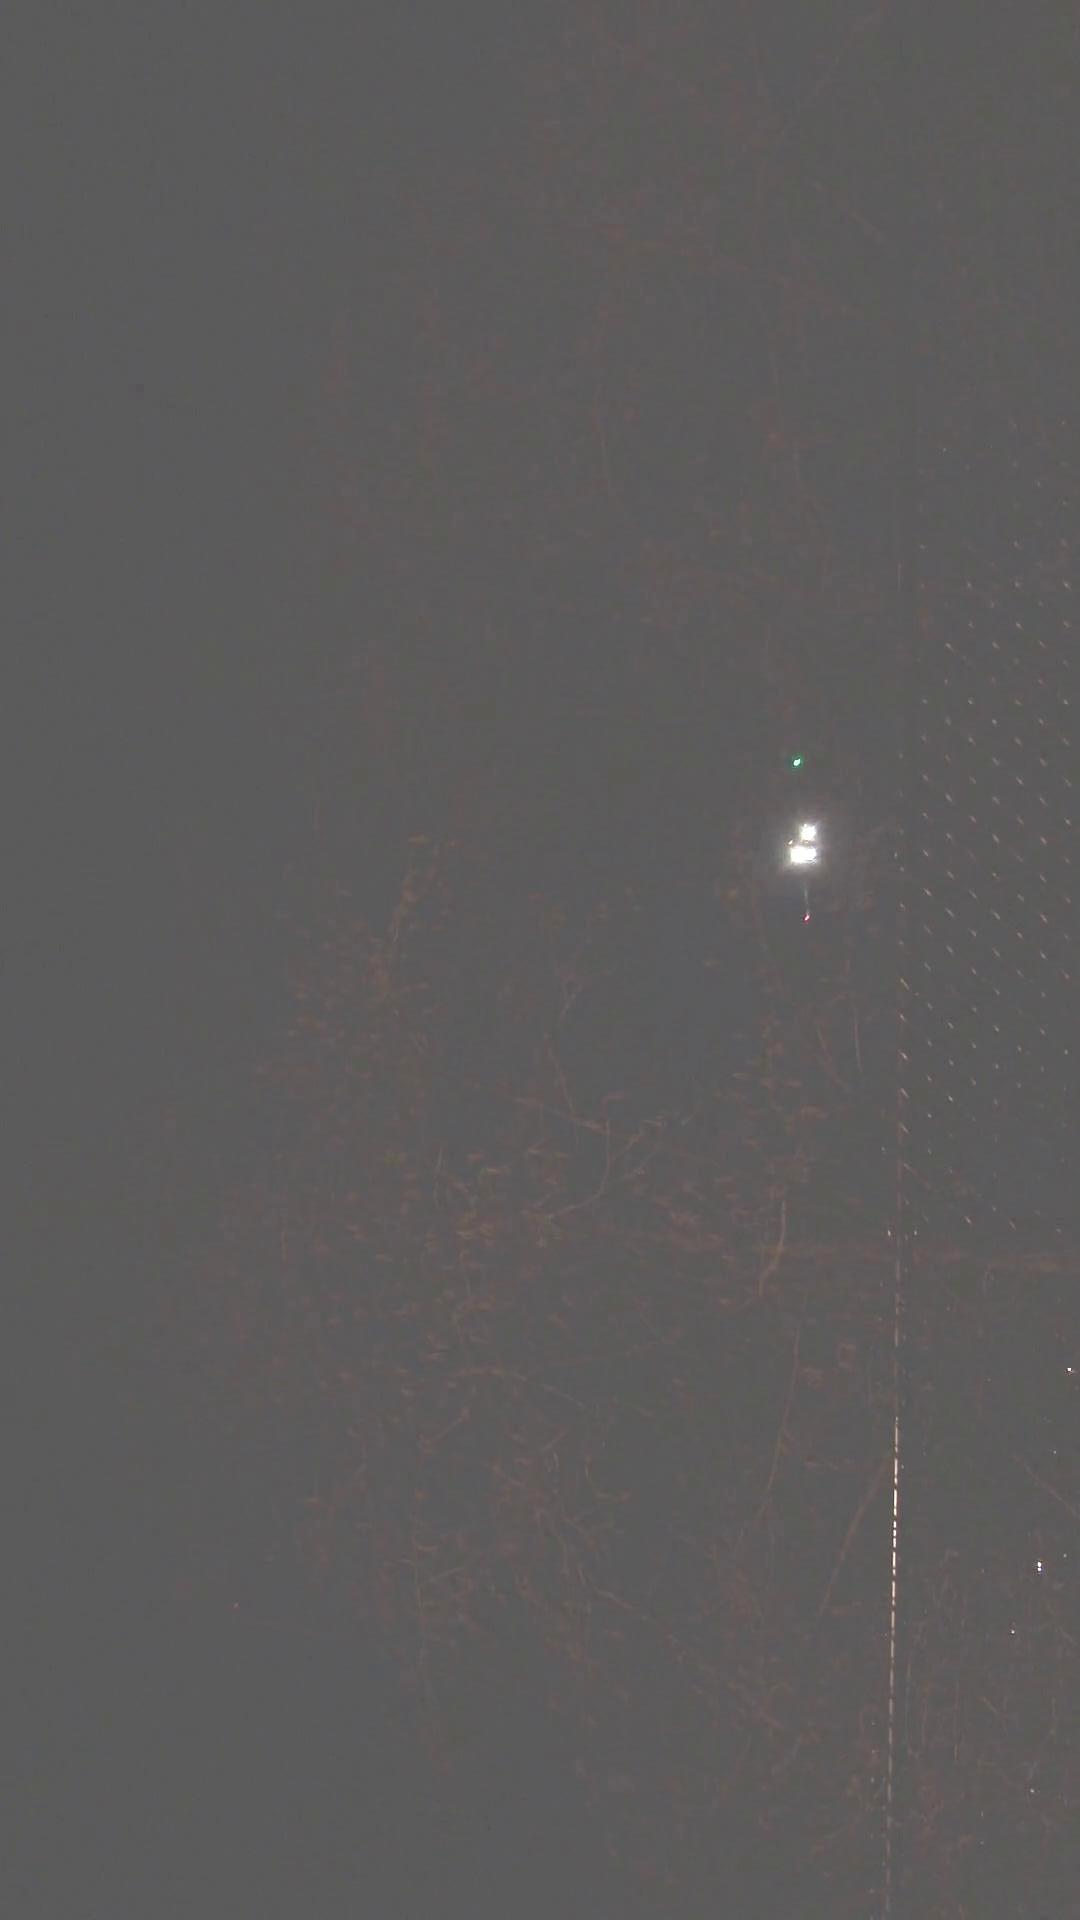Plane: (711, 709, 868, 967)
